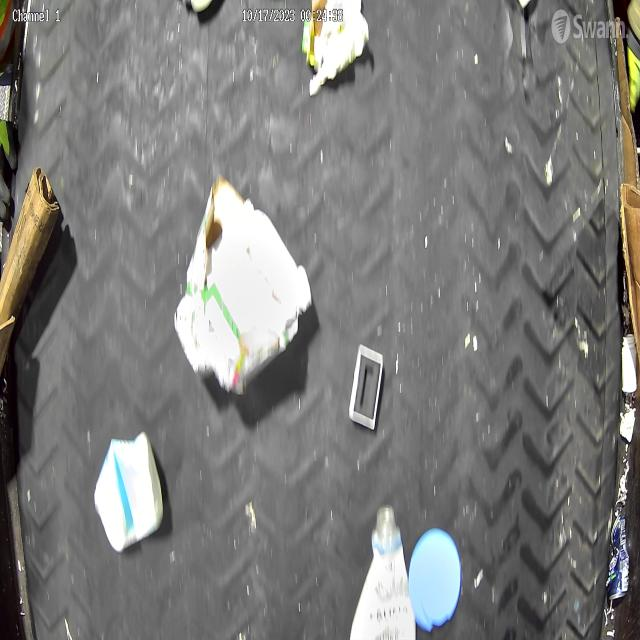can: (608, 514, 630, 600)
non_white_jug: (94, 431, 164, 552)
